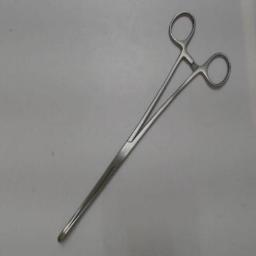Sponge Forceps: (53, 4, 235, 248)
